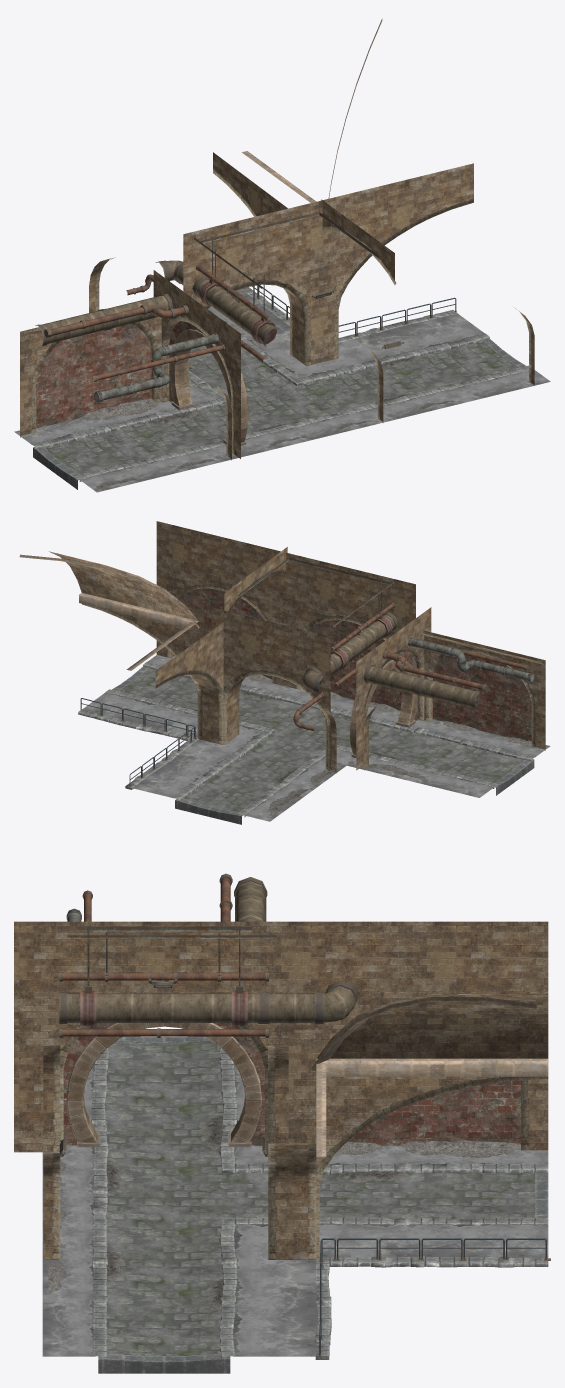
File: t3_road_cross_c.glb
The picture shows the model from 3 angles, top to bottom: view 1: azimuth 30°, elevation 25°; view 2: azimuth 150°, elevation 25°; view 3: azimuth 270°, elevation 25°; orthographic projection. The views are drawn at different scales.
Parts seen in each view (by area): view 1: um_t3_road_cross_c_model_t3_road_cross_c_modelShape; view 2: um_t3_road_cross_c_model_t3_road_cross_c_modelShape; view 3: um_t3_road_cross_c_model_t3_road_cross_c_modelShape.
Boxes of the visible parts, x1,y1,x2,y2 form: um_t3_road_cross_c_model_t3_road_cross_c_modelShape: (14,18,550,492); um_t3_road_cross_c_model_t3_road_cross_c_modelShape: (19,521,550,824); um_t3_road_cross_c_model_t3_road_cross_c_modelShape: (14,873,550,1373).
Size of the model in its own units: 30.12 by 15.95 by 20.99.
Materials: 9 (9 with a texture image).
